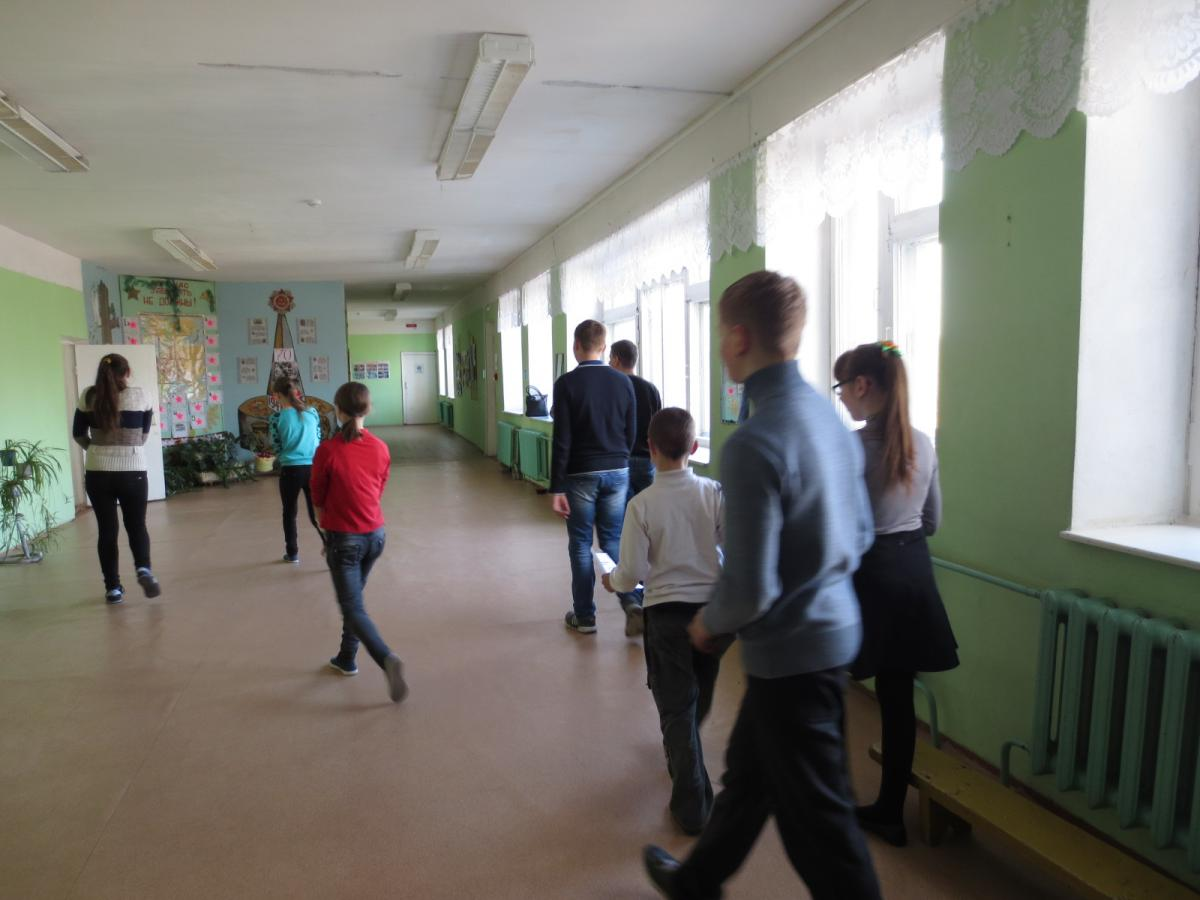students: (642, 268, 886, 895), (831, 340, 964, 839), (602, 405, 728, 831), (309, 380, 414, 710), (552, 316, 634, 636), (71, 352, 163, 604), (273, 382, 321, 565), (608, 341, 658, 491)
